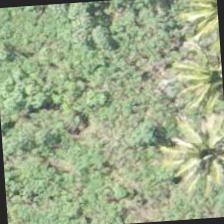Kelapa_Sawit: (152, 113, 223, 209), (169, 36, 223, 130)
